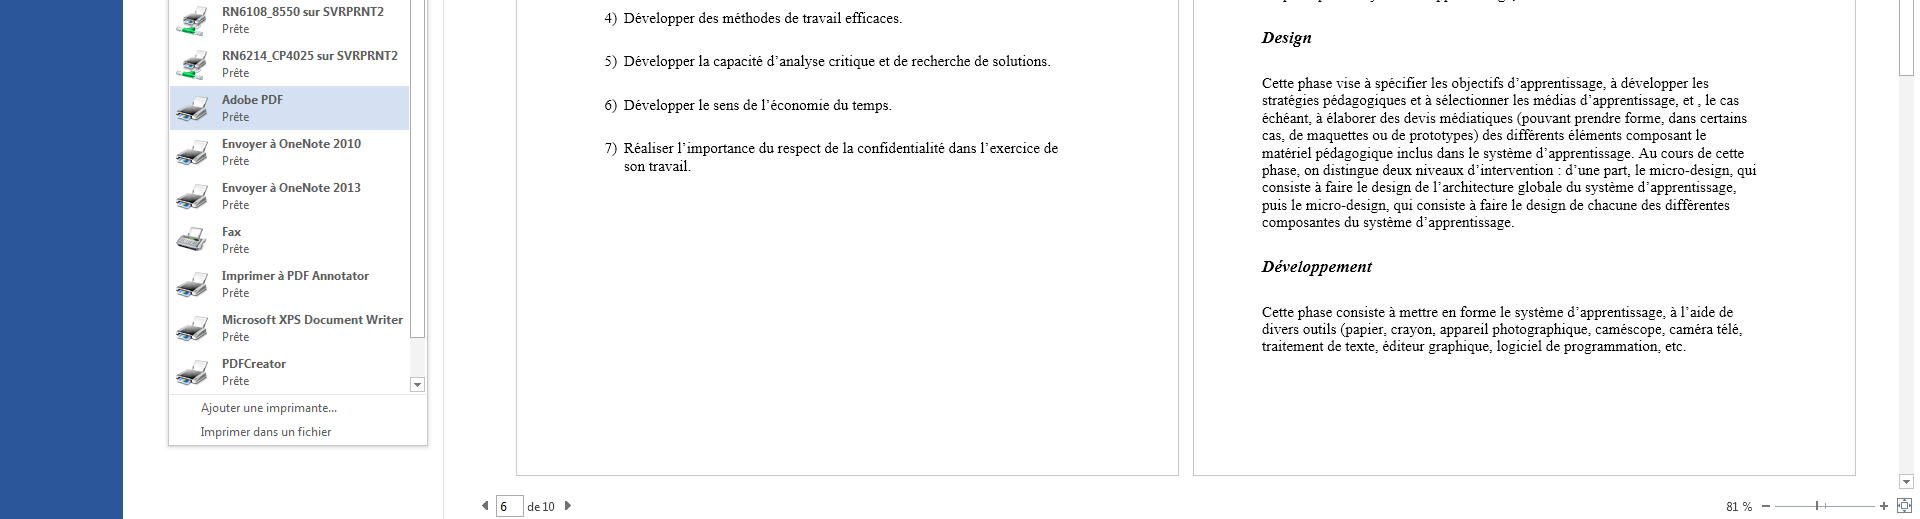texte: (219, 47, 313, 81), (1318, 129, 1393, 165), (219, 2, 300, 37), (1762, 498, 1911, 513), (1258, 129, 1311, 165), (176, 228, 249, 253), (176, 186, 249, 209), (176, 274, 249, 297), (1261, 261, 1373, 275), (201, 403, 328, 415), (1536, 147, 1631, 162), (1416, 215, 1511, 230), (1638, 133, 1693, 158), (201, 417, 249, 446), (1491, 323, 1591, 337), (1509, 77, 1607, 91), (1580, 94, 1678, 108), (1638, 181, 1736, 195), (1569, 306, 1667, 319), (1564, 342, 1660, 354), (222, 140, 267, 165), (222, 95, 283, 114), (1322, 94, 1406, 108), (1649, 164, 1733, 177), (1880, 490, 1918, 519), (1307, 200, 1389, 213), (1440, 111, 1513, 126), (678, 142, 756, 155), (223, 318, 266, 342), (858, 142, 945, 153), (624, 12, 696, 26), (624, 55, 696, 69), (624, 99, 696, 113), (1262, 218, 1340, 230), (1621, 77, 1689, 91), (1433, 181, 1513, 192), (1397, 133, 1433, 158), (1468, 164, 1547, 175), (1596, 324, 1665, 337), (1429, 340, 1491, 354), (1436, 94, 1509, 105), (767, 55, 825, 69), (1517, 111, 1571, 126), (264, 83, 287, 118), (267, 403, 328, 415), (762, 99, 829, 110), (1322, 164, 1378, 177), (176, 98, 208, 121), (176, 142, 208, 165), (176, 318, 208, 342), (176, 362, 208, 386), (1261, 32, 1311, 47), (1665, 200, 1730, 211), (1573, 111, 1621, 126), (1375, 77, 1427, 91), (182, 51, 207, 80), (1262, 95, 1319, 108), (1452, 77, 1502, 91), (182, 9, 207, 35), (1262, 111, 1311, 125), (222, 271, 276, 283), (981, 142, 1040, 153), (1484, 148, 1532, 162), (1364, 217, 1412, 230), (1440, 323, 1488, 337), (222, 359, 287, 368), (722, 12, 780, 23), (912, 55, 970, 66), (1422, 131, 1473, 143), (1341, 323, 1387, 337), (1507, 129, 1564, 140), (714, 56, 763, 69), (1262, 342, 1324, 351), (845, 12, 899, 23), (993, 55, 1047, 66), (1569, 129, 1622, 140), (1518, 181, 1562, 195), (1498, 340, 1542, 354), (1586, 182, 1633, 195), (1515, 307, 1562, 319), (1626, 131, 1692, 140), (305, 315, 362, 324), (312, 271, 369, 280), (1526, 200, 1566, 213), (1327, 111, 1376, 122), (624, 142, 673, 153), (1588, 200, 1637, 211), (1625, 111, 1664, 125), (1371, 181, 1411, 195), (223, 315, 276, 324), (323, 7, 383, 16), (337, 51, 397, 60), (829, 58, 876, 69), (1262, 164, 1300, 177), (283, 296, 299, 328), (222, 184, 267, 195), (1533, 94, 1576, 105), (778, 144, 820, 155), (1382, 340, 1425, 351), (1417, 201, 1464, 211), (1298, 77, 1332, 91), (1298, 306, 1332, 319), (411, 315, 429, 342), (649, 160, 691, 171), (279, 140, 331, 148), (279, 184, 331, 192), (802, 12, 841, 23), (1391, 327, 1435, 337), (200, 27, 249, 35), (200, 71, 249, 80), (1262, 184, 1311, 192), (1336, 308, 1385, 317), (1670, 324, 1713, 334), (528, 501, 571, 510), (1700, 114, 1747, 122), (1460, 306, 1496, 317), (1262, 323, 1299, 334), (852, 102, 888, 113), (246, 393, 260, 421), (1681, 306, 1716, 317), (1400, 307, 1438, 317), (1303, 323, 1336, 334), (1344, 342, 1378, 353), (1416, 168, 1464, 175), (366, 315, 403, 324), (1404, 111, 1436, 122), (1382, 164, 1412, 175), (1717, 323, 1742, 335), (1262, 78, 1294, 88), (1262, 307, 1294, 317), (1325, 181, 1353, 192), (1669, 111, 1696, 122), (949, 142, 976, 153), (1438, 147, 1464, 158), (1480, 200, 1507, 211), (1333, 131, 1368, 140), (1469, 129, 1479, 158), (1604, 166, 1630, 177), (298, 427, 331, 436), (564, 491, 574, 519), (1573, 165, 1600, 175), (223, 111, 249, 121), (223, 376, 249, 386), (333, 140, 361, 148), (1716, 149, 1744, 158), (1262, 203, 1287, 213), (482, 501, 507, 510), (333, 184, 360, 192), (1727, 502, 1752, 510), (1380, 111, 1400, 122), (1483, 129, 1502, 140), (1641, 200, 1660, 211), (287, 271, 309, 280), (699, 12, 718, 23), (1682, 95, 1701, 106), (1393, 203, 1413, 213), (1692, 77, 1709, 88), (714, 103, 740, 110), (1262, 133, 1284, 142), (255, 427, 277, 436), (1336, 81, 1360, 88), (1555, 153, 1561, 182), (1738, 168, 1756, 177), (223, 226, 241, 236), (1431, 77, 1447, 88), (1513, 94, 1529, 105), (1665, 342, 1682, 351), (605, 12, 617, 26), (605, 55, 617, 69), (605, 99, 617, 113), (605, 142, 617, 155), (894, 55, 909, 66), (834, 99, 849, 110), (759, 142, 774, 153), (1566, 181, 1581, 192), (1344, 215, 1359, 226), (230, 157, 249, 165), (624, 164, 645, 171), (785, 12, 798, 23), (975, 55, 988, 66), (743, 99, 757, 110), (1289, 129, 1303, 140), (1044, 142, 1058, 153), (1698, 147, 1712, 158), (1416, 181, 1429, 192), (1570, 200, 1583, 211), (1719, 306, 1733, 317), (1547, 340, 1560, 351), (1720, 98, 1739, 105), (1392, 129, 1404, 140), (825, 142, 838, 153), (1329, 340, 1341, 351), (699, 55, 710, 66), (1704, 94, 1716, 105), (842, 142, 853, 153), (1291, 200, 1302, 211), (1500, 306, 1511, 317), (699, 99, 709, 110), (1696, 129, 1706, 140), (1304, 168, 1319, 175), (1635, 164, 1644, 175), (1357, 181, 1367, 192), (1512, 200, 1522, 211), (302, 10, 320, 16), (317, 54, 334, 60), (1442, 310, 1456, 317), (1373, 133, 1389, 140), (1411, 95, 1420, 105), (879, 58, 890, 66), (282, 430, 294, 436), (1315, 182, 1322, 192), (1469, 200, 1476, 211), (1365, 78, 1371, 88), (1611, 78, 1618, 88), (1425, 95, 1431, 105), (1316, 113, 1322, 122), (278, 271, 284, 280), (1389, 307, 1395, 317), (414, 383, 421, 387), (1671, 307, 1674, 317), (272, 142, 276, 148), (274, 184, 276, 192), (271, 140, 274, 141), (193, 102, 193, 105), (193, 190, 193, 193), (193, 278, 193, 282), (193, 366, 193, 368)
